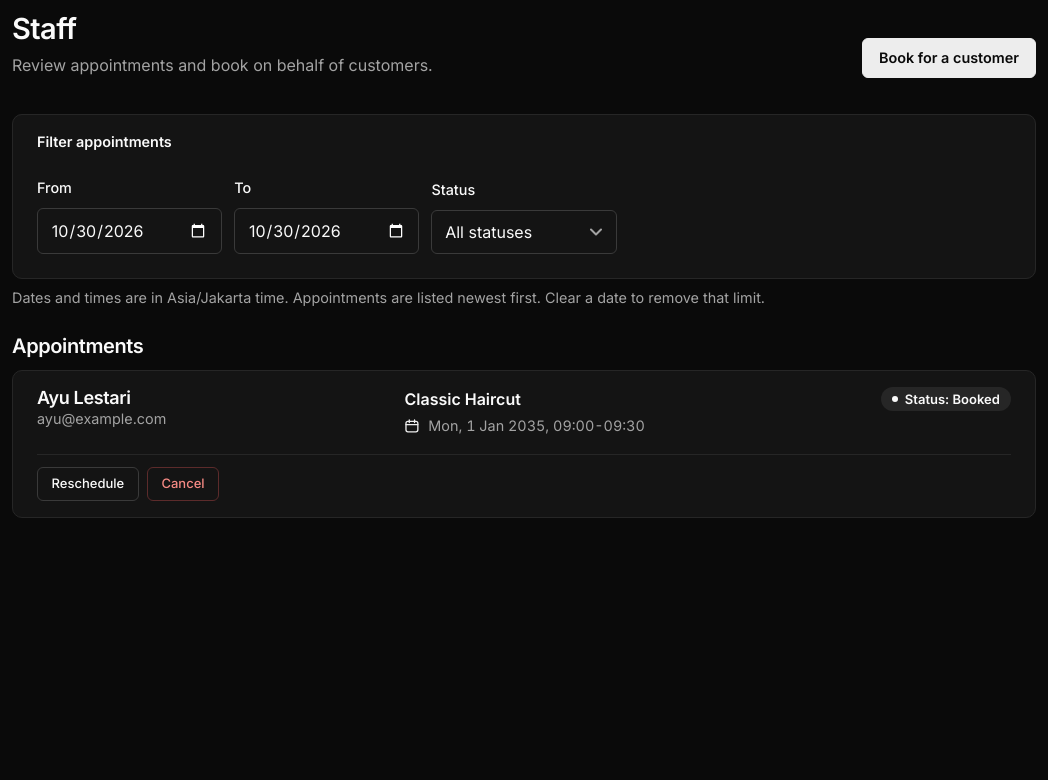
Test case: StaffAppointmentList actions › cancels after confirmation, keeps the customer details and moves focus to the heading
This screenshot has width=1048, height=780.
Click the button named "Cancel appointment for Ayu Lestari". click: (183, 484)
box: [147,467,219,501]
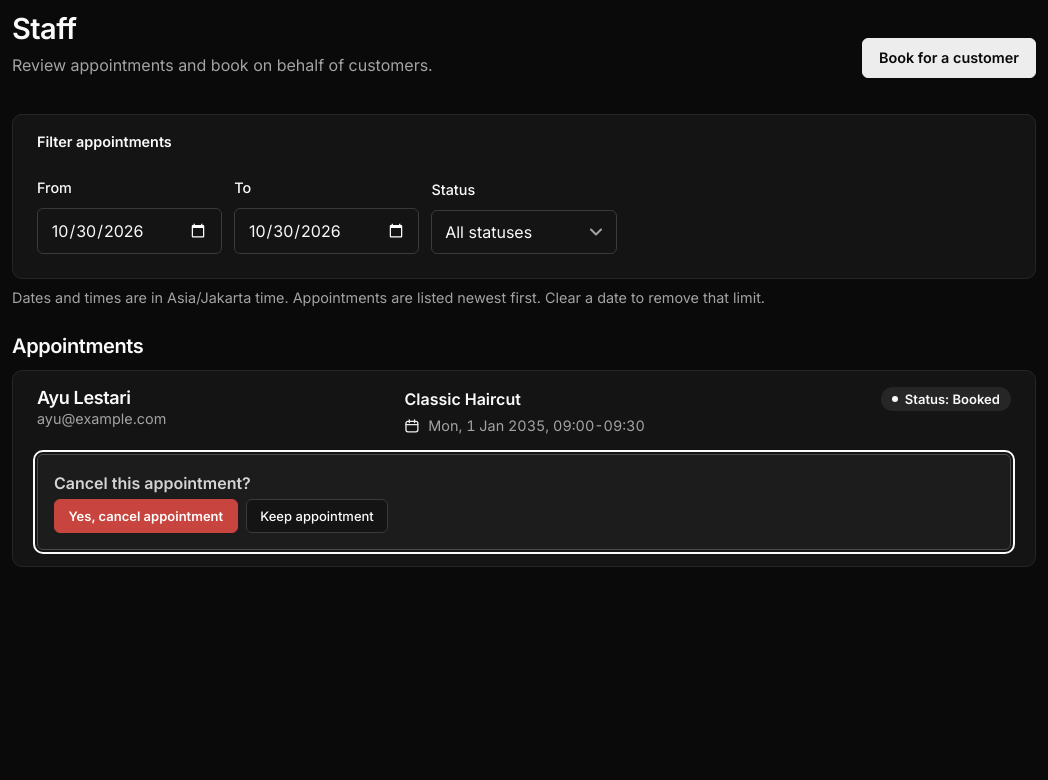
Click the button "Yes, cancel appointment". click: (146, 516)
box: [54,499,238,533]
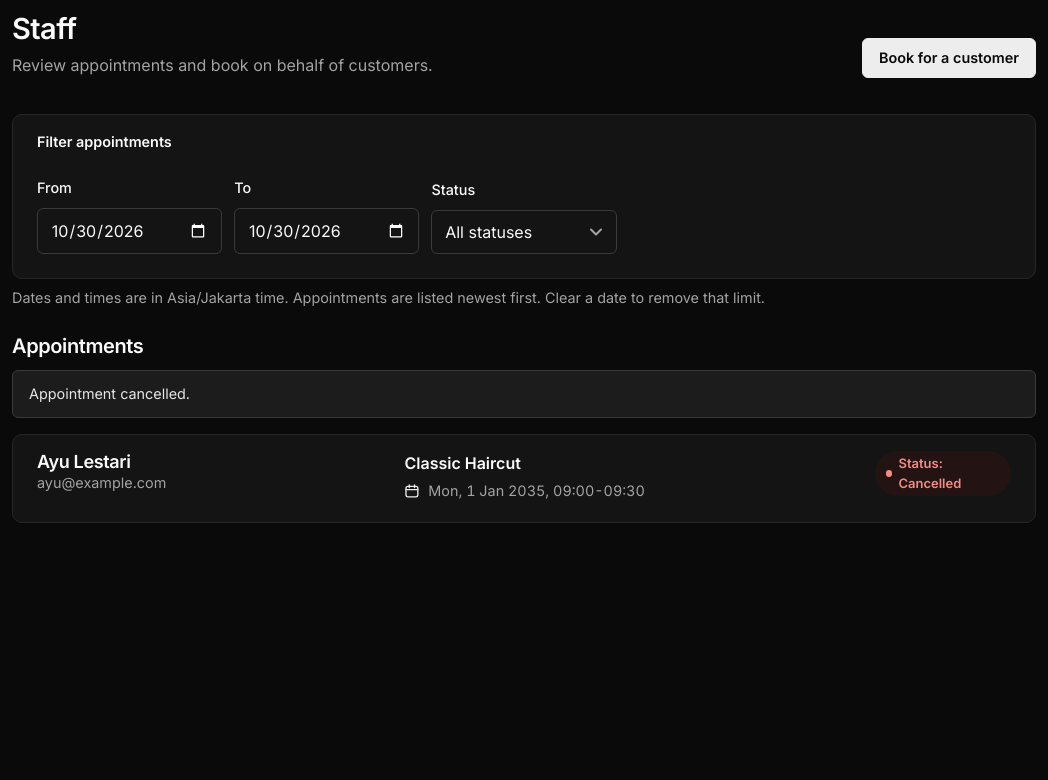
Expected: the heading "Ayu Lestari" is shown, [37,451,130,472]
Result: the text "Appointment cancelled." is shown at [12,370,1036,418]
Result: the text "Status: Cancelled" is shown at [875,451,1011,496]
